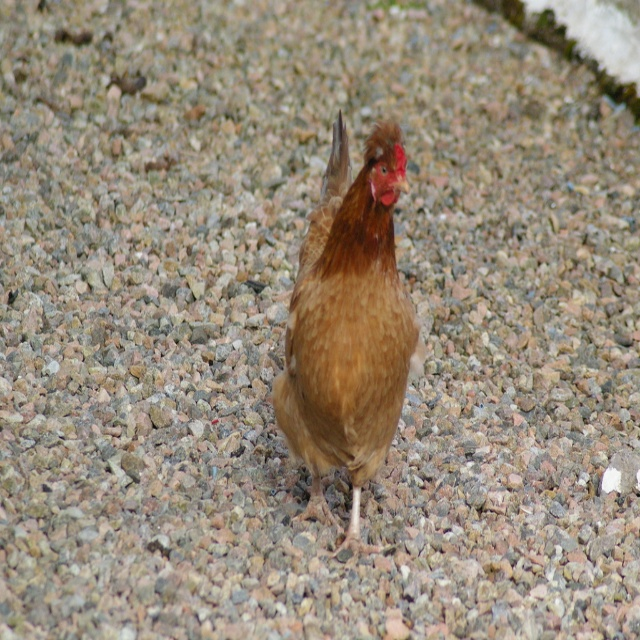Chicken: (268, 114, 417, 566)
